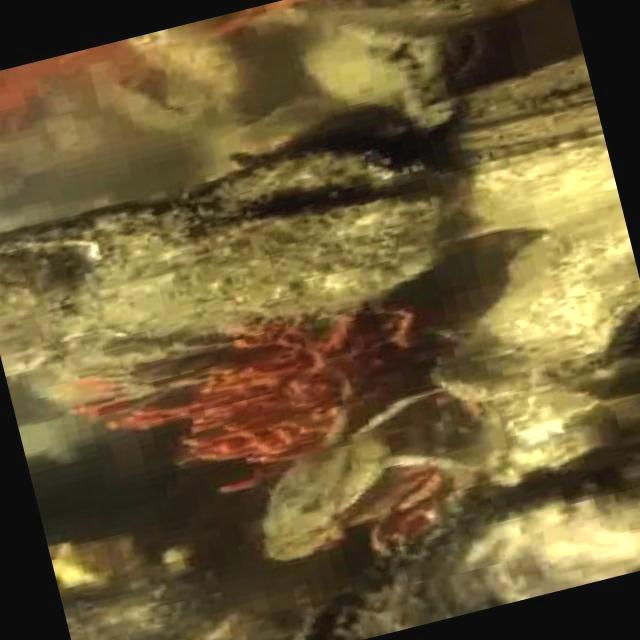Oyster-Closed: (355, 435, 639, 639)
Oyster-Open: (0, 148, 456, 367), (282, 592, 369, 639)
